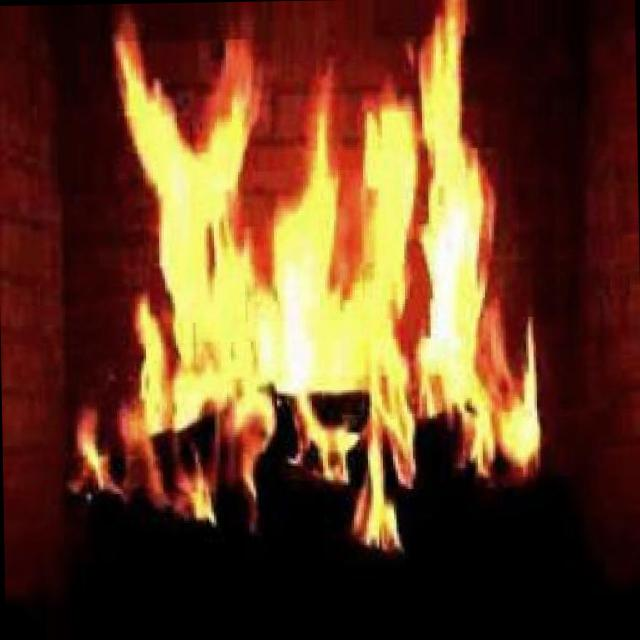Fire: (47, 0, 557, 576)
